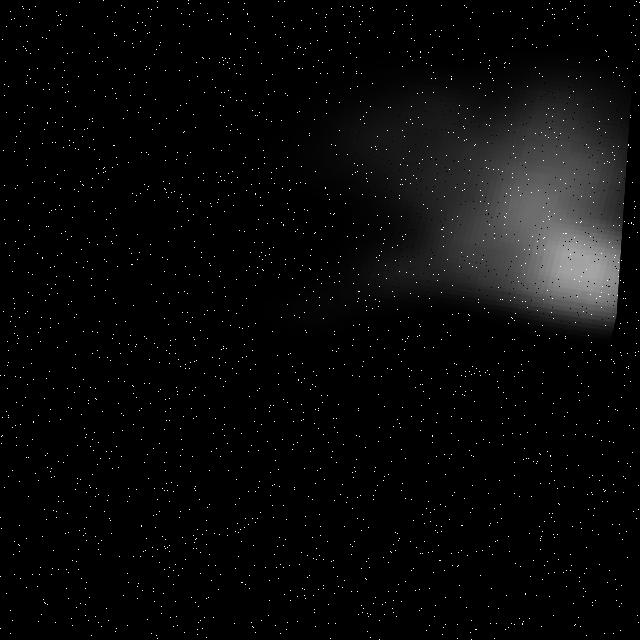person: (107, 1, 640, 407)
